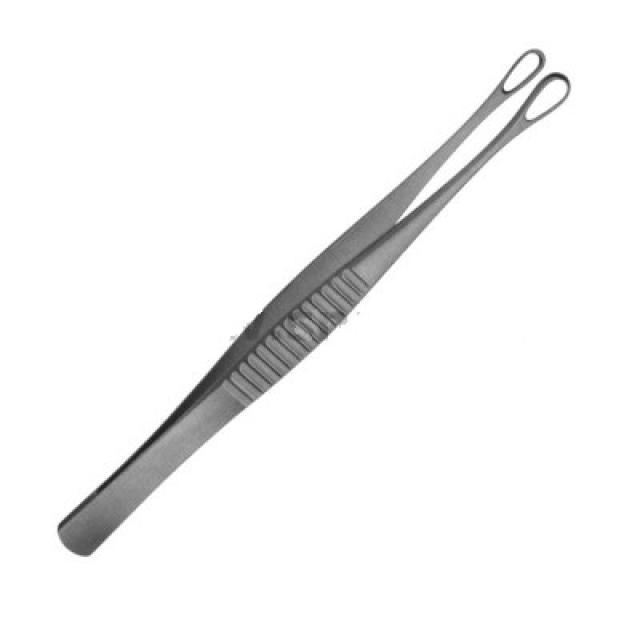Eye Intestinal Forceps: (51, 41, 572, 560)
